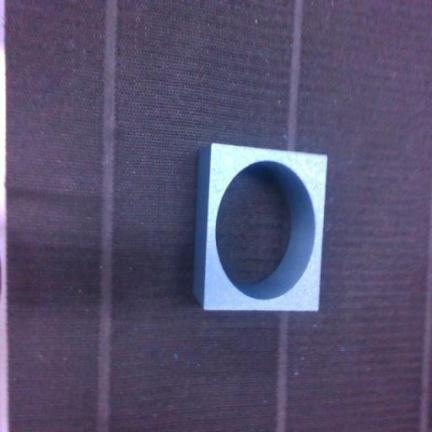square: (195, 144, 326, 311)
